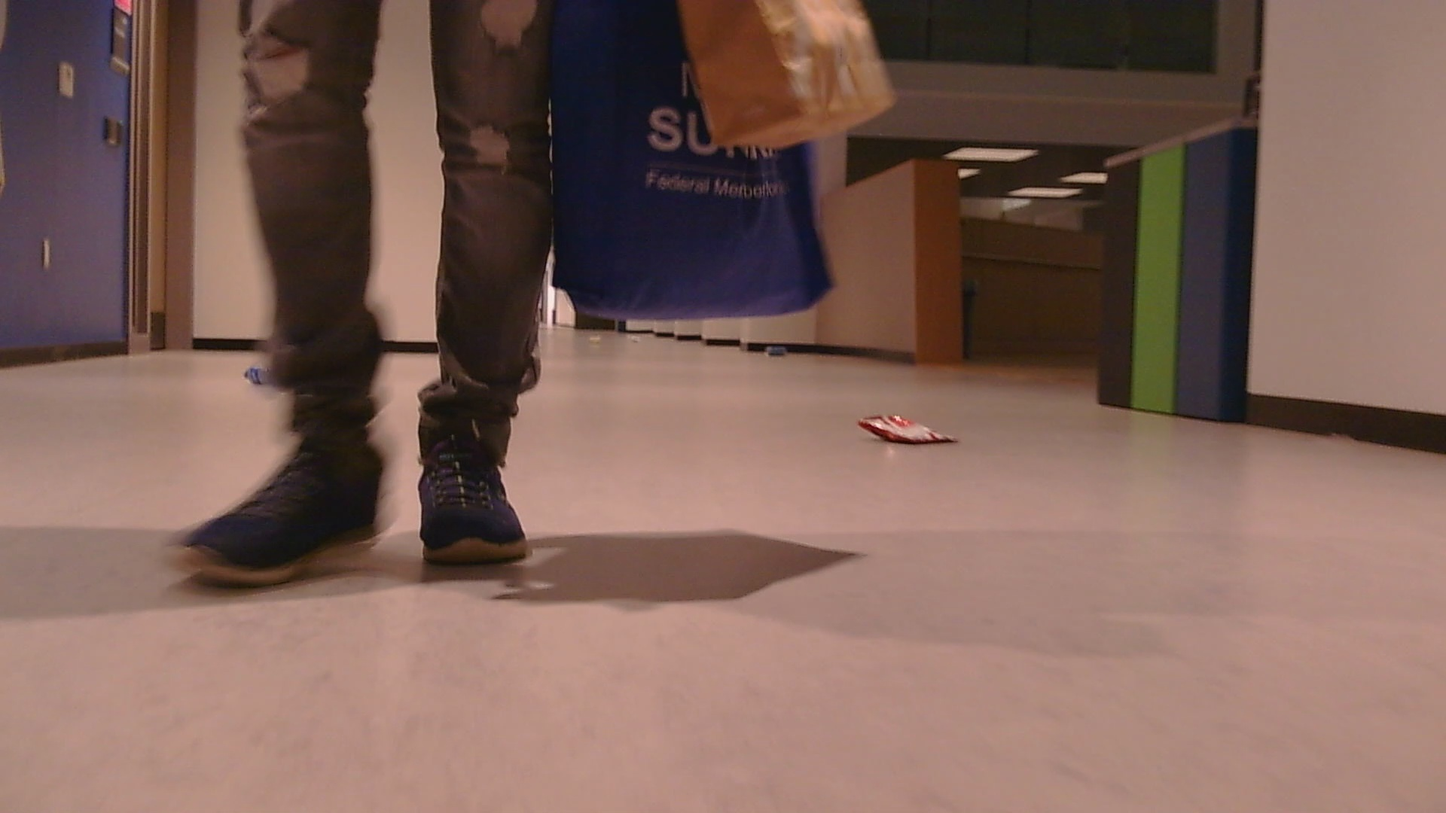carton: (854, 393, 963, 457)
